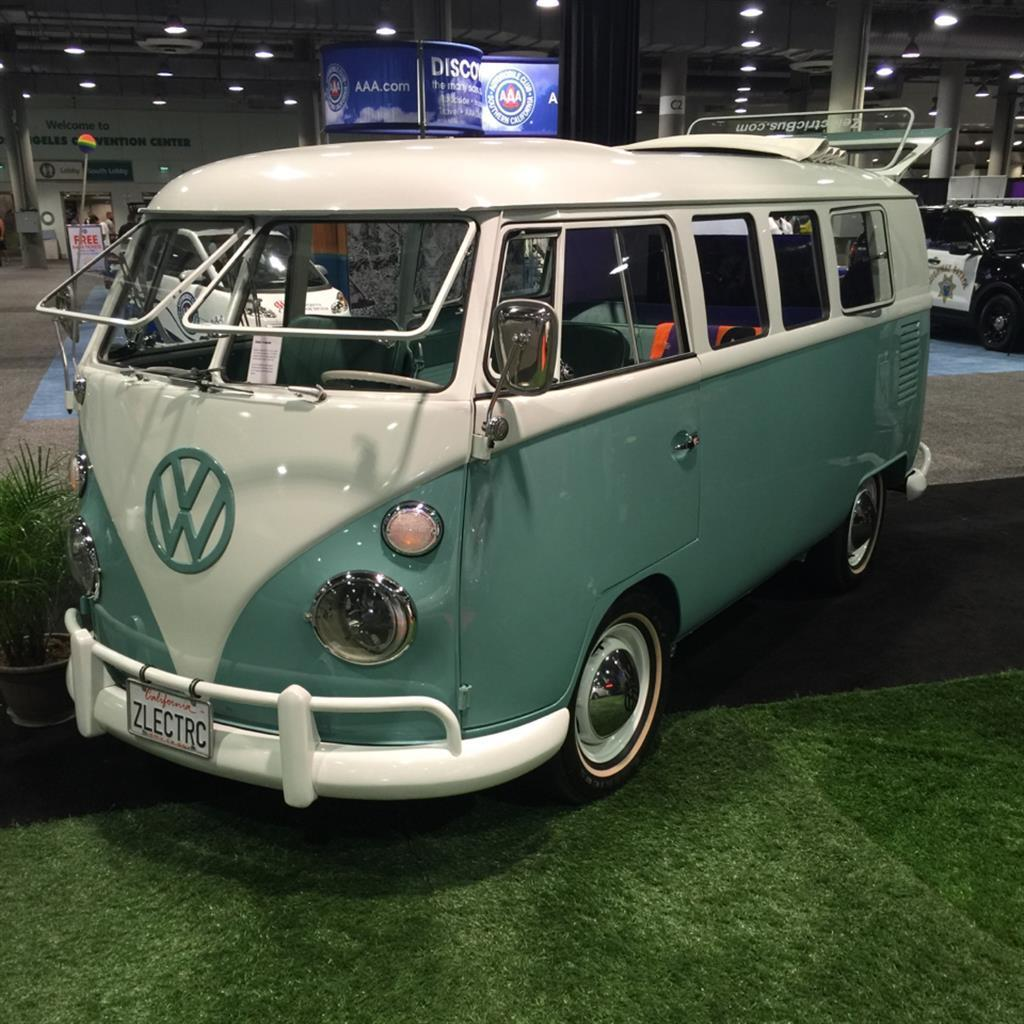van: (50, 106, 949, 816)
